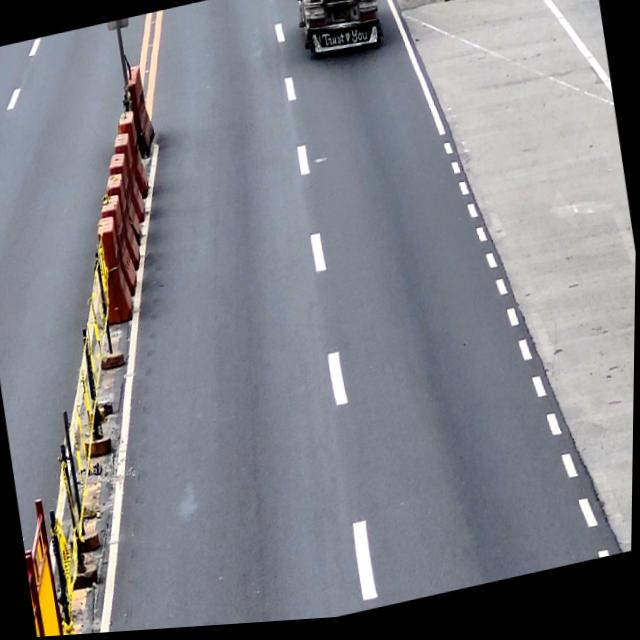Jeep: (290, 0, 384, 68)
